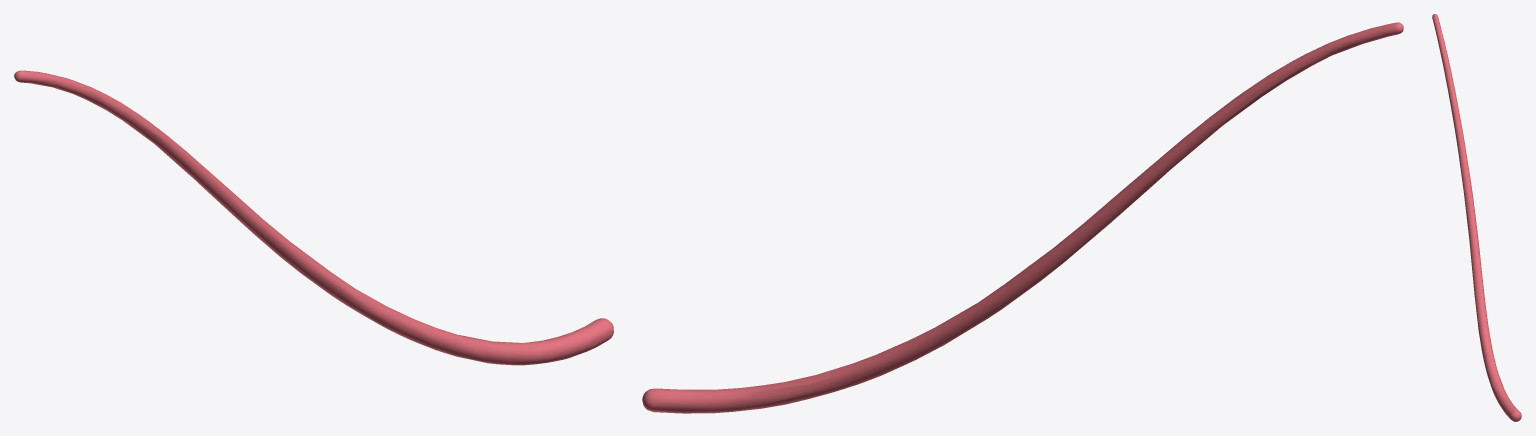
The model's file is fma51311_fj4988.glb.
3 views of the same model, side by side, from view 1: azimuth 30°, elevation 25°; view 2: azimuth 150°, elevation 25°; view 3: azimuth 270°, elevation 25° (orthographic). The views are drawn at different scales.
Visible parts, largest first — view 1: FMA51311_FJ4988; view 2: FMA51311_FJ4988; view 3: FMA51311_FJ4988.
Boxes of the visible parts, x1,y1,x2,y2 form: FMA51311_FJ4988: [14, 70, 613, 365]; FMA51311_FJ4988: [642, 22, 1403, 413]; FMA51311_FJ4988: [1432, 14, 1521, 421].
Size of the model in its own units: 0.0319 by 0.0221 by 0.0073.
